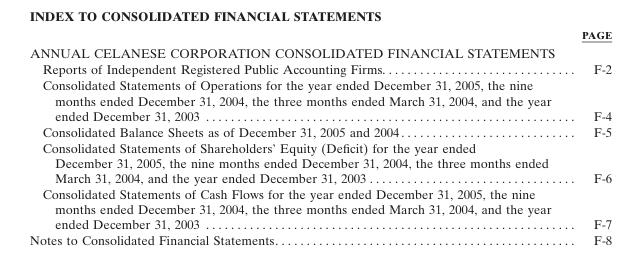table: (29, 28, 611, 247)
table column: (29, 28, 565, 247), (565, 28, 611, 247)
table column header: (29, 28, 611, 43)
table projected row header: (29, 43, 611, 61)
table row: (29, 185, 611, 232), (29, 77, 611, 123), (29, 139, 611, 185), (29, 43, 611, 61), (29, 61, 611, 77), (29, 123, 611, 139), (29, 28, 611, 43), (29, 232, 611, 247)
